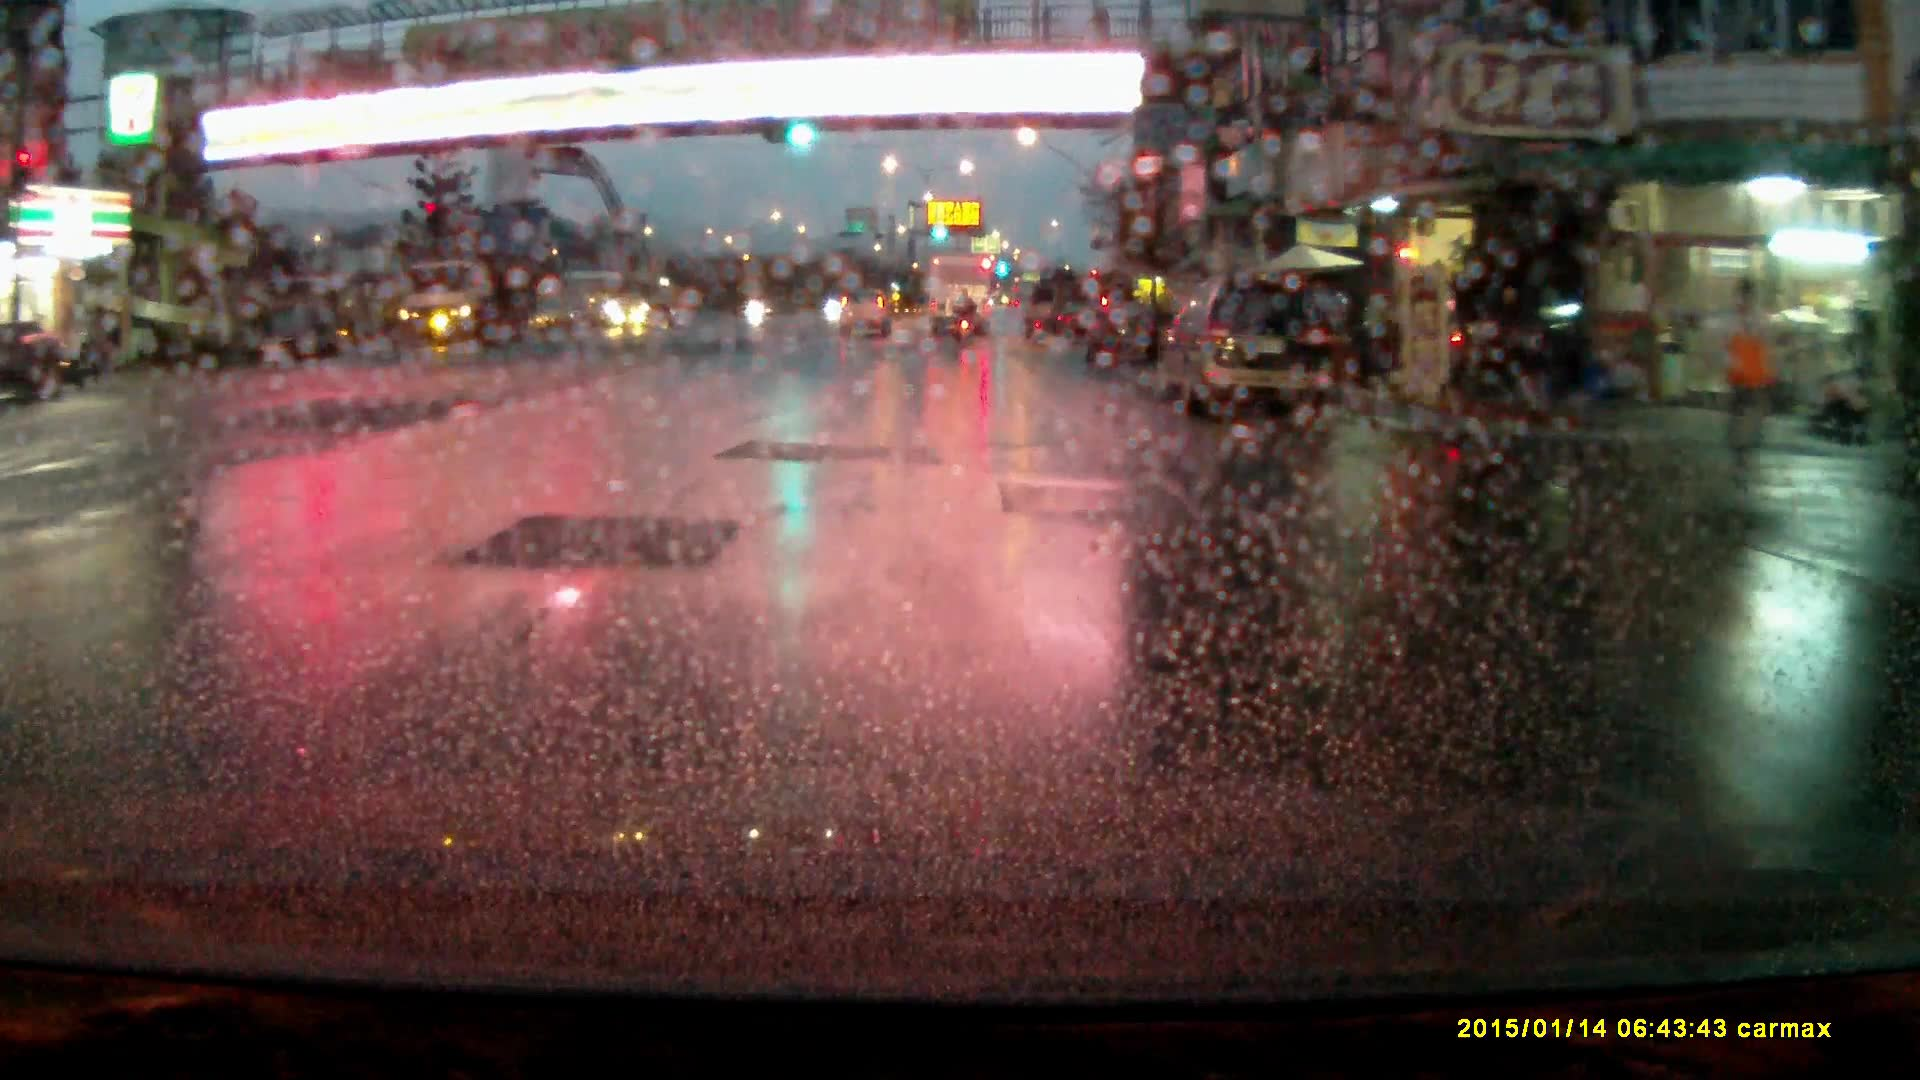pedestrian: (1706, 271, 1790, 488)
rider: (952, 292, 977, 352)
vehicle: (1161, 282, 1340, 418), (1458, 286, 1590, 394), (394, 258, 527, 350), (1, 320, 81, 409), (928, 257, 993, 335), (1087, 309, 1164, 368), (611, 281, 682, 337), (840, 294, 895, 343)
